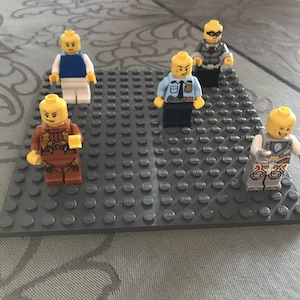Lego: (27, 93, 84, 191), (245, 104, 300, 189), (153, 50, 204, 126), (49, 28, 97, 106), (189, 18, 234, 88)
